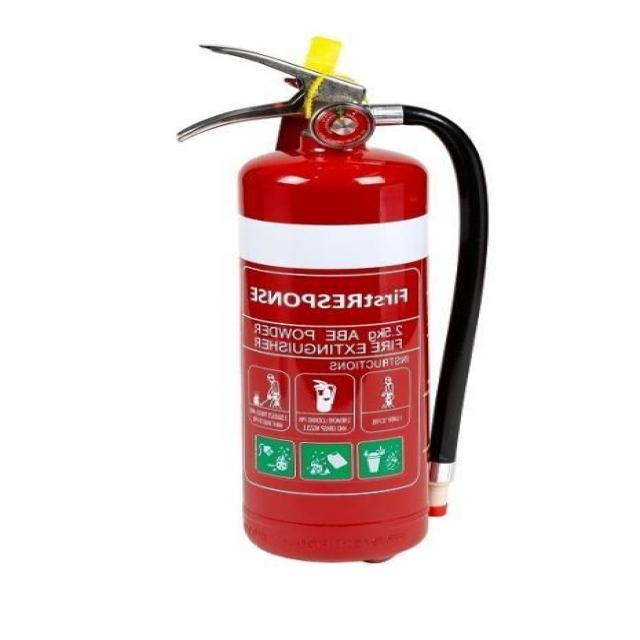fire_extinguisher: (166, 32, 497, 568)
